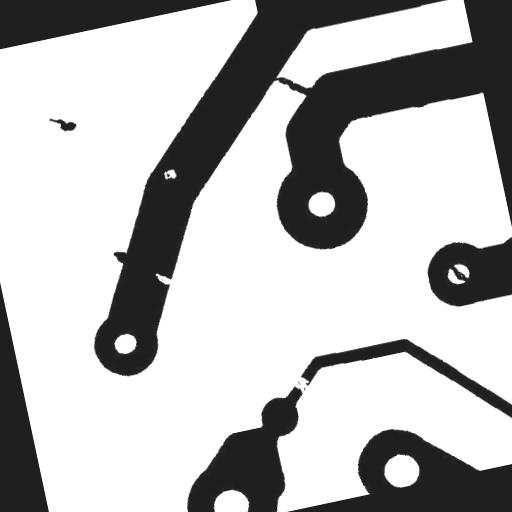copper: (38, 104, 86, 143)
mousebite: (146, 260, 182, 296)
open: (281, 362, 320, 404)
pin-hole: (154, 159, 185, 188)
short: (264, 61, 324, 110), (440, 252, 477, 292)
spur: (104, 240, 140, 274)
